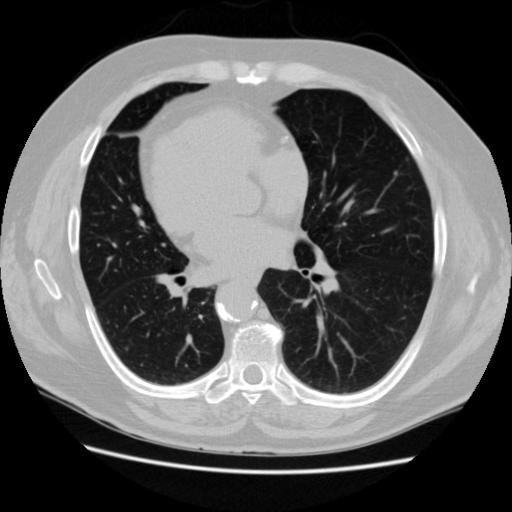nodule: (392, 168, 402, 178)
